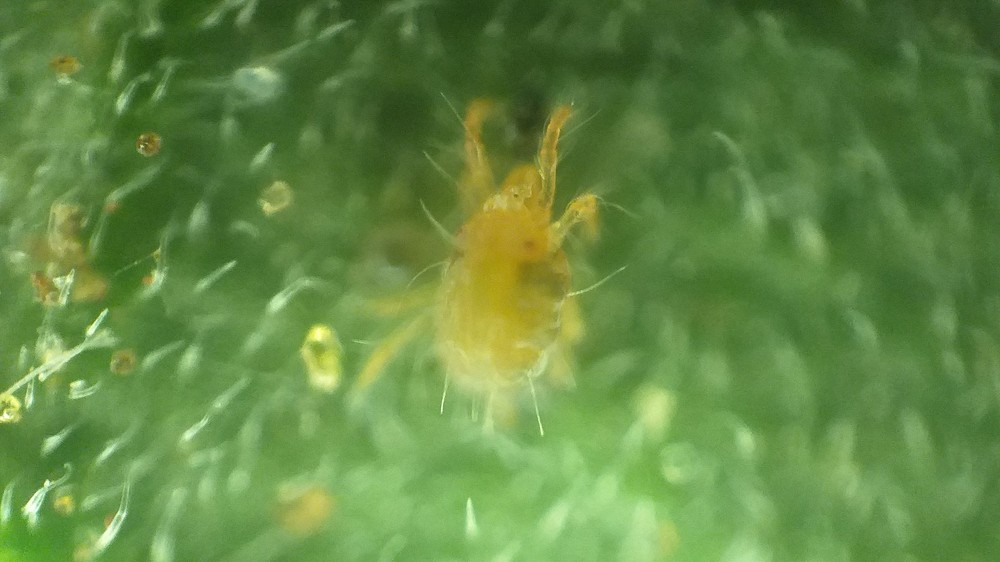Aracnido Rojo: (362, 79, 656, 469)
